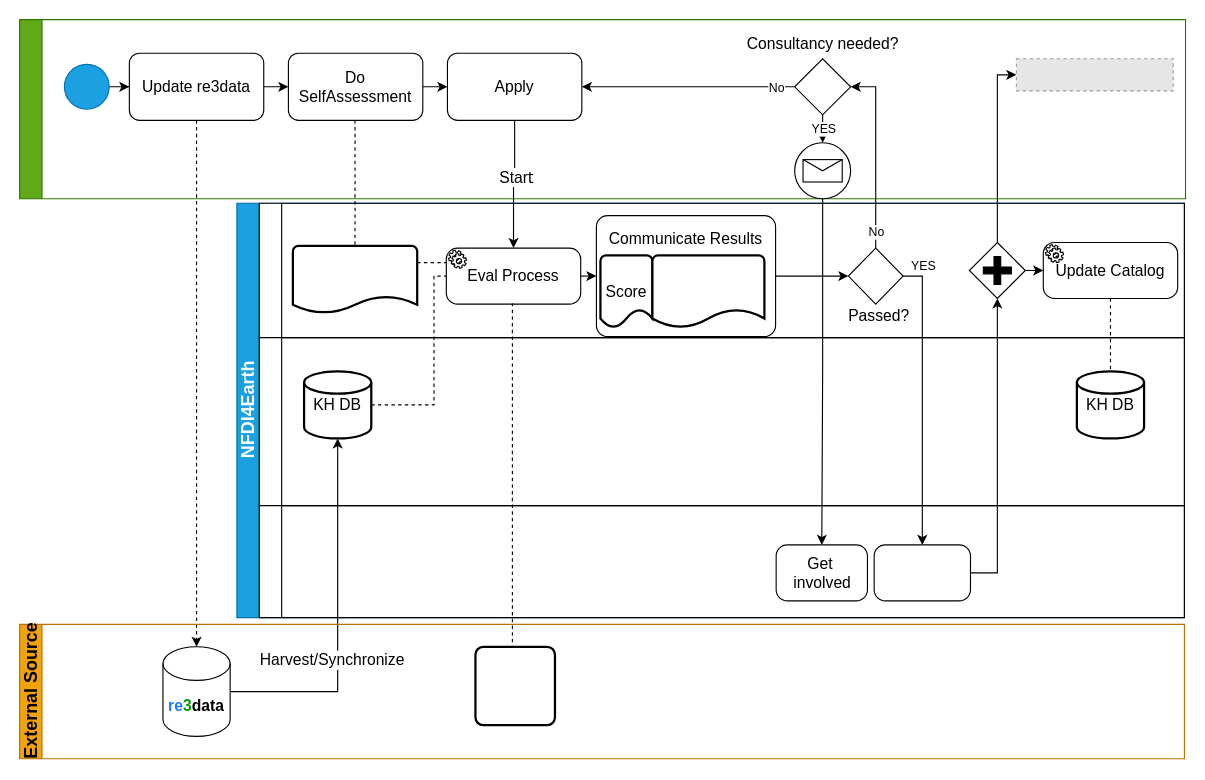
The diagram is 1205 pixels wide and 780 high, and some of its shapes have lost their labels. Grey dashed boxes stand in for pictures. The shapes that lost their labels are listed below. From the top down, each one's box as (x1, y1, x2, y2) in pixels, then its label:
(18, 18, 1186, 199): Applicant
(291, 244, 418, 314): SelfAssessment Form
(258, 202, 1184, 338): OneStop4All
(651, 254, 765, 328): Recom mendations
(258, 337, 1184, 506): KnowledgeHub
(258, 505, 1184, 618): N4E HelpDesk
(873, 544, 970, 601): Assess & Update
(474, 645, 556, 726): Fuji-Tool (self hosted)
